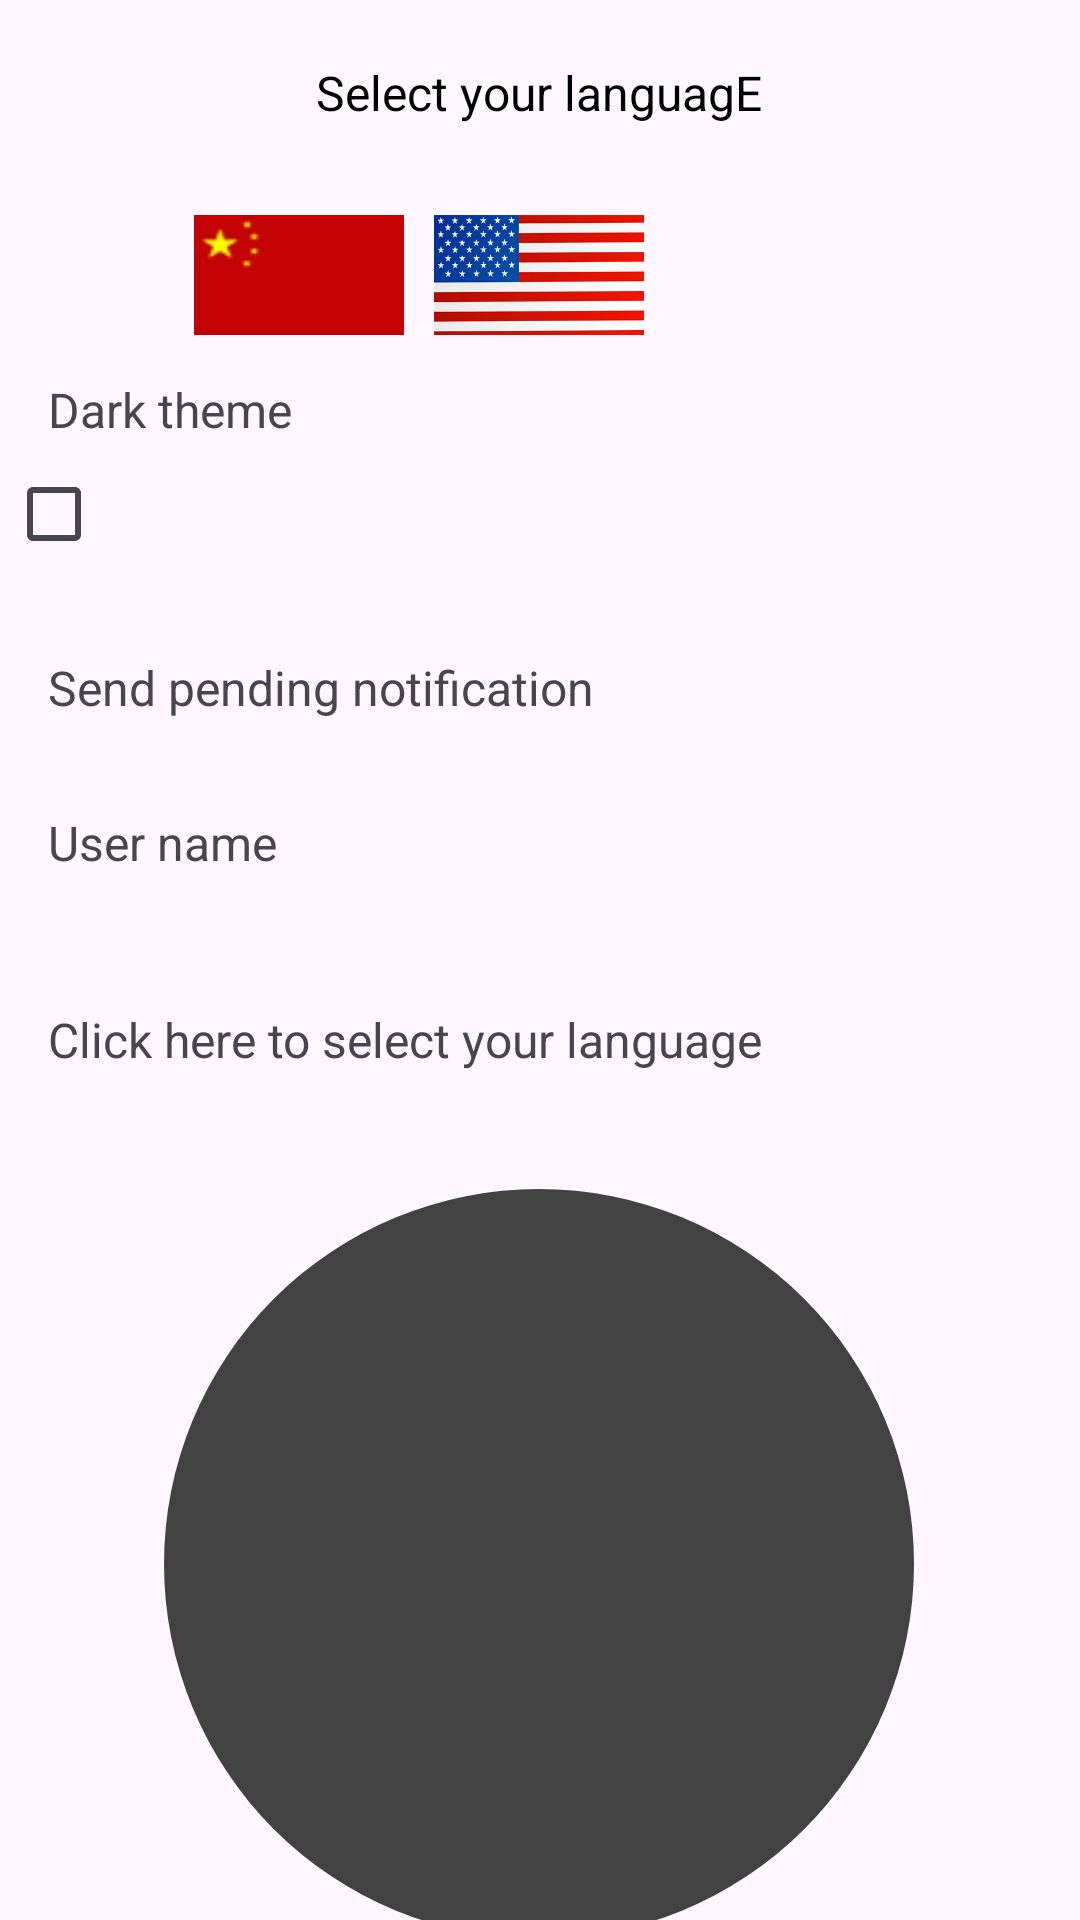

Named icons in this screenshot (1080*1920) and their bounding boxes, BBox(x1, y1, x2, y2):
china flag: BBox(194, 215, 404, 335)
usa flag: BBox(434, 215, 644, 335)
